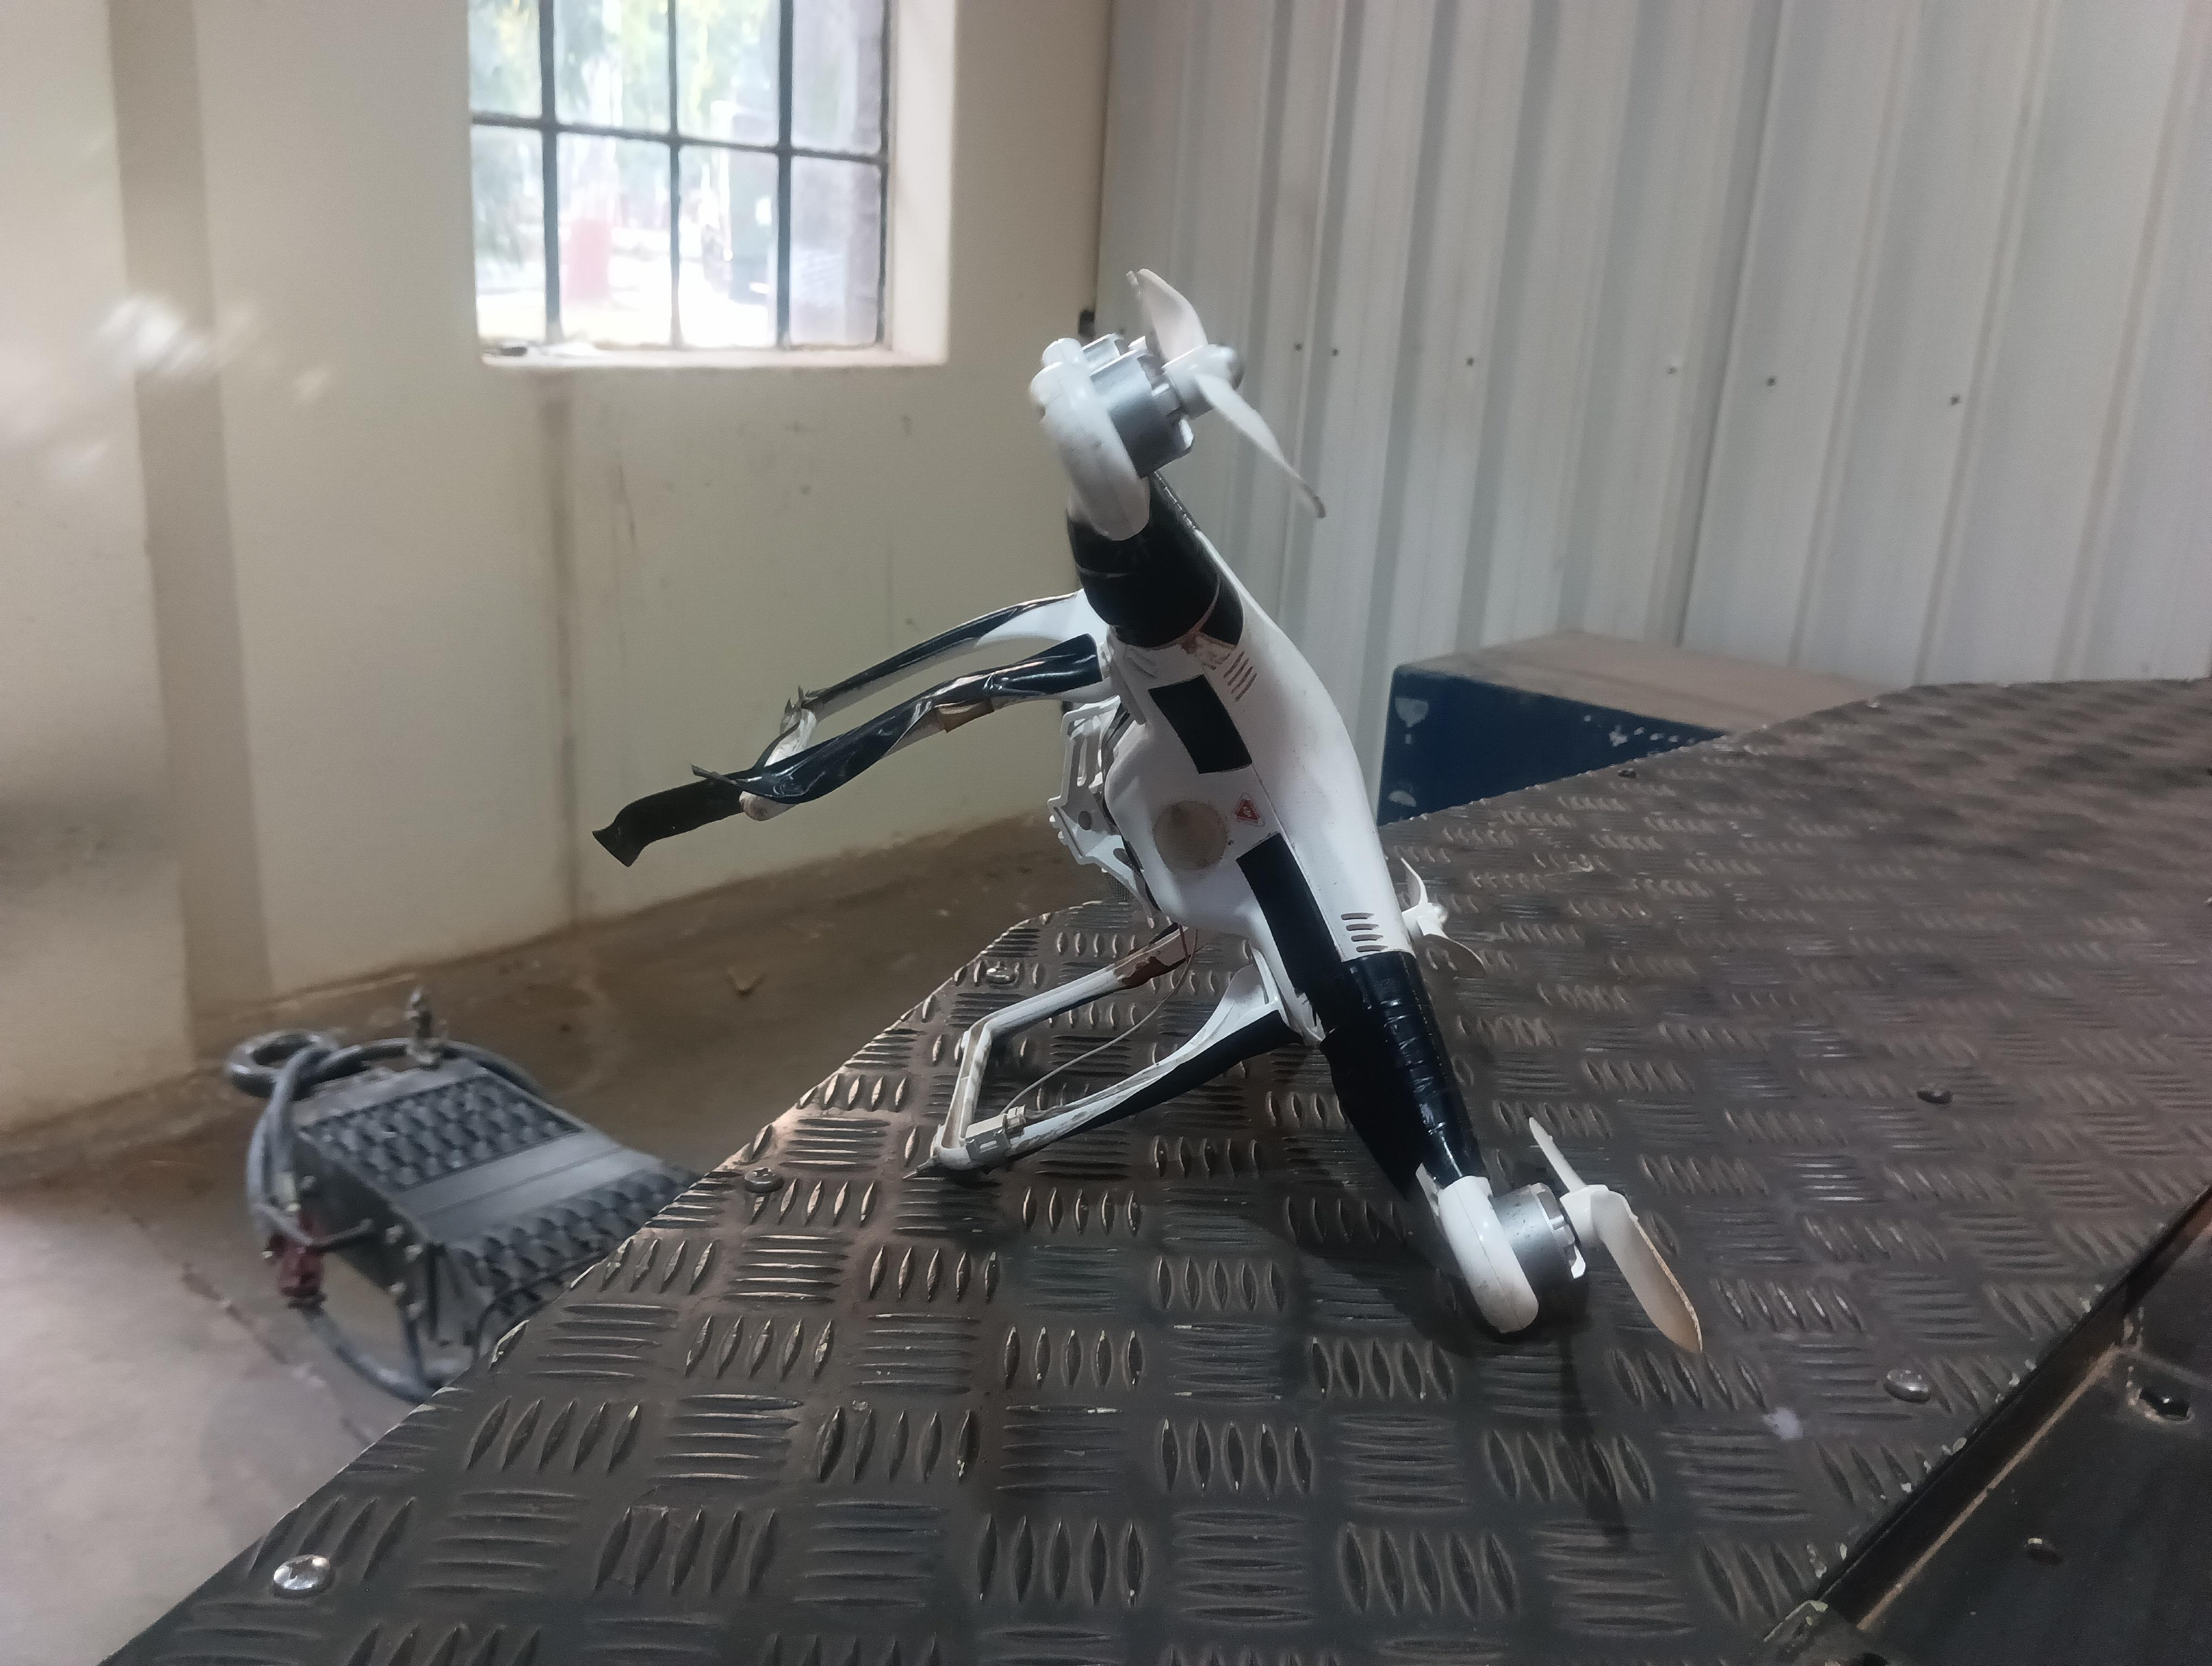drone: (554, 245, 1889, 1463)
